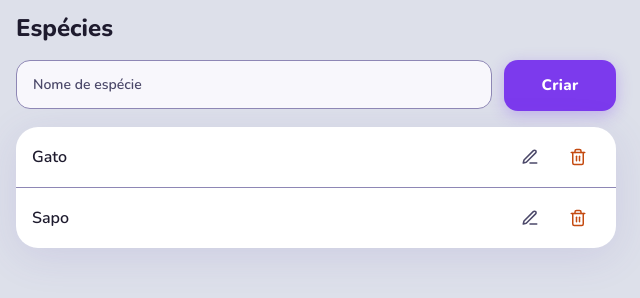
Test: SpeciesPage — renomeacao › CT-18: o 409 marca o CAMPO da linha, que PERMANECE em edicao, e nenhum dos dois nomes muda
Click the 4th button at (530, 218), box [508,196,552,240]
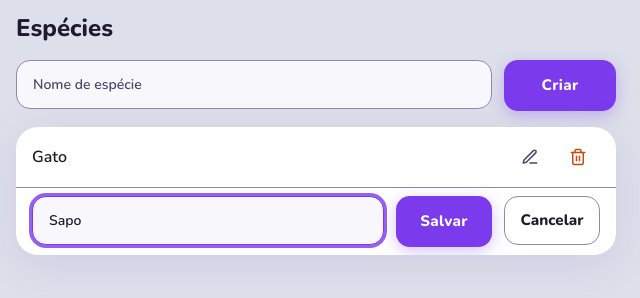
Type keys "{Backspace}{Backspace}{Backspace}{Backspace}gato{Enter}"
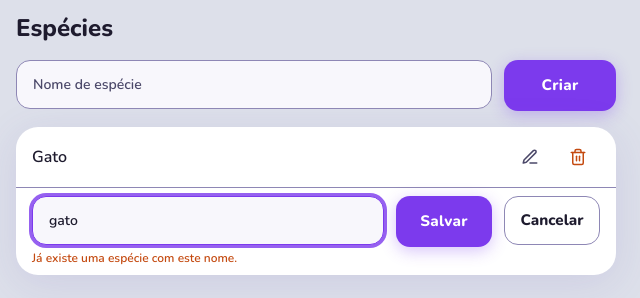
Expected: the button "Salvar" is enabled, [396,196,492,247]
Expected: the text "Já existe uma espécie com este nome." is shown, [32,250,237,266]
Expected: the 2nd field holds "gato", [32,196,384,245]
